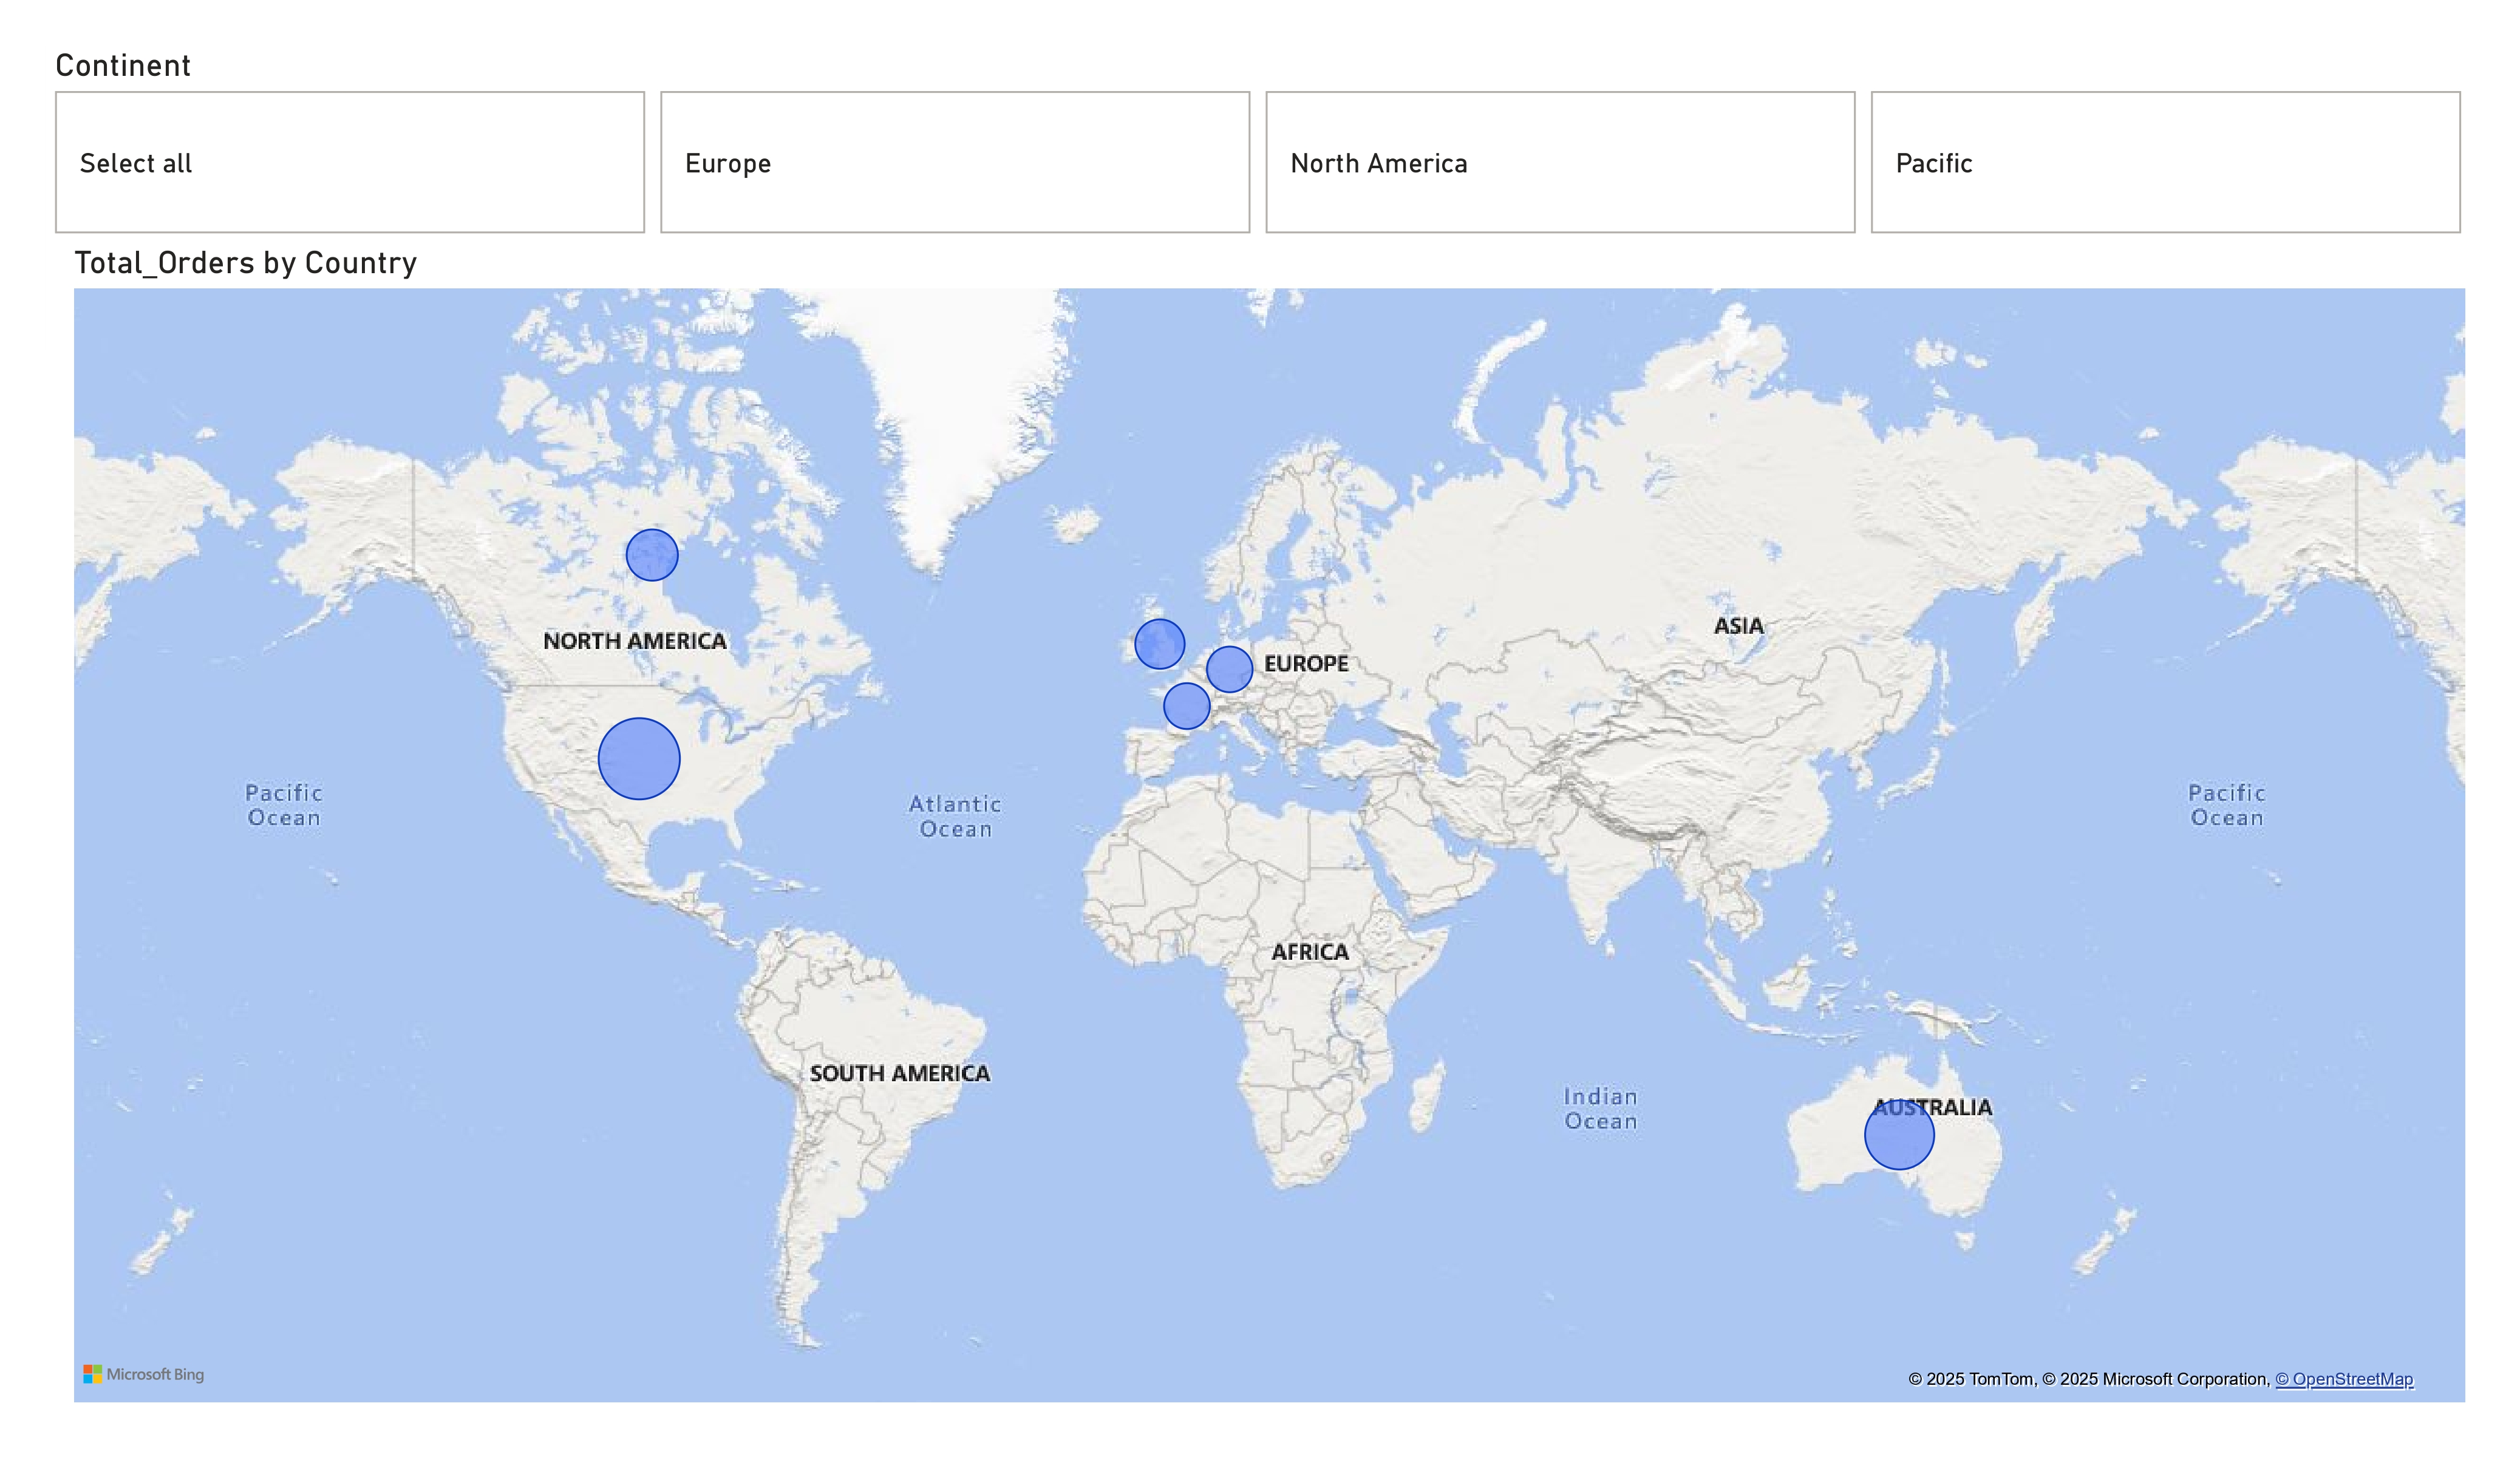

What the dashboard file says about the page in this screenshot:
{"tool":"powerbi","page":{"name":"Map","canvas":[1280,720],"ordinal":4},"visuals":[{"type":"map","fields":{"Category":["Territory Lookup.Country"],"Size":["Measure_Table.Total_Orders"]},"box":[10,104.5,1270.1,615.8],"z":0},{"type":"advancedSlicerVisual","fields":{"Values":["Territory Lookup.Continent"]},"box":[0,0,1279.7,104.5],"z":1000}]}

Visuals, with their boxes in screenshot pixels (x1, y1, x2, y2):
map - Territory Lookup.Country x Measure_Table.Total_Orders: 64, 244, 2474, 1411
advancedSlicerVisual - Territory Lookup.Continent: 46, 46, 2474, 244
